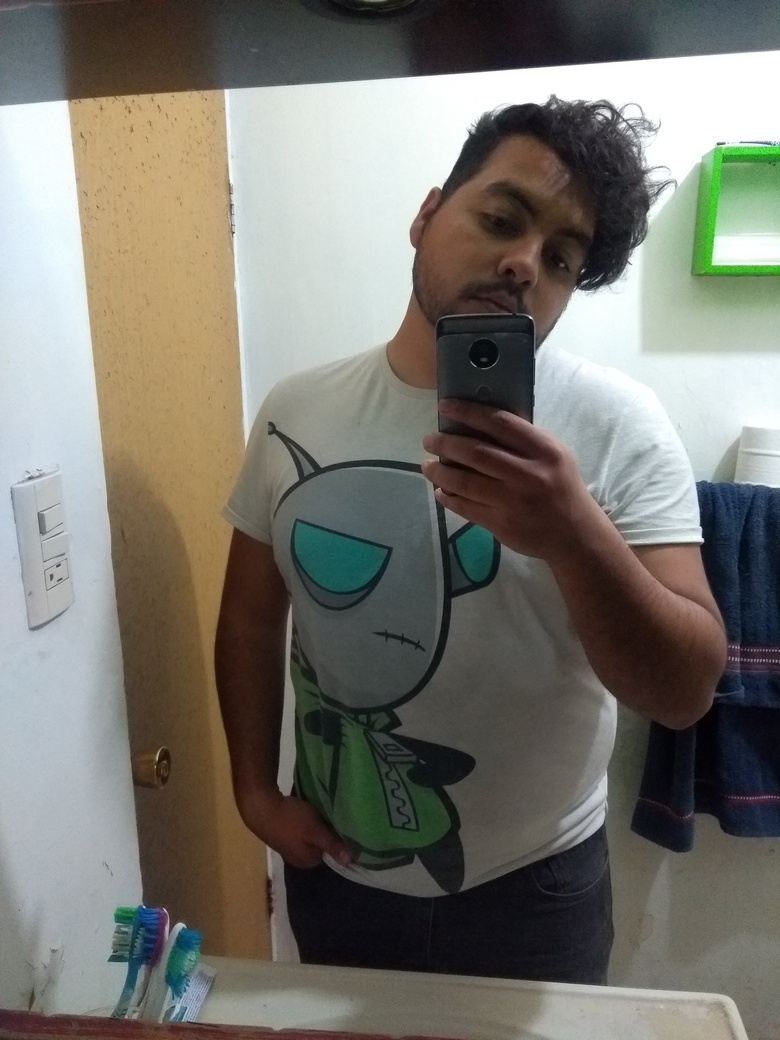Yoshi: (403, 90, 665, 415)
